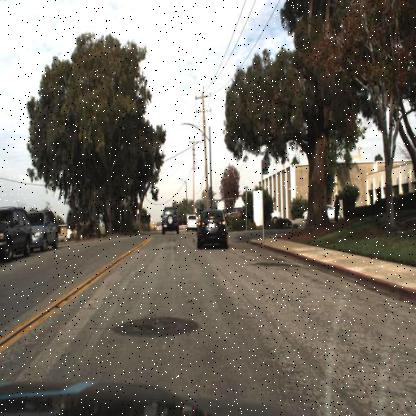car: (0, 204, 32, 263), (194, 207, 233, 252), (30, 206, 60, 250), (196, 208, 228, 248), (159, 200, 183, 237), (302, 200, 340, 223), (183, 210, 200, 234), (268, 206, 283, 228), (300, 203, 312, 224)
